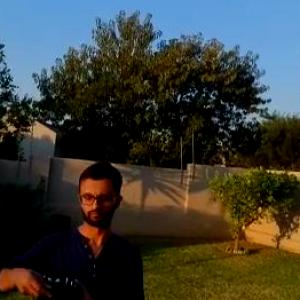follow: (0, 150, 150, 299)
